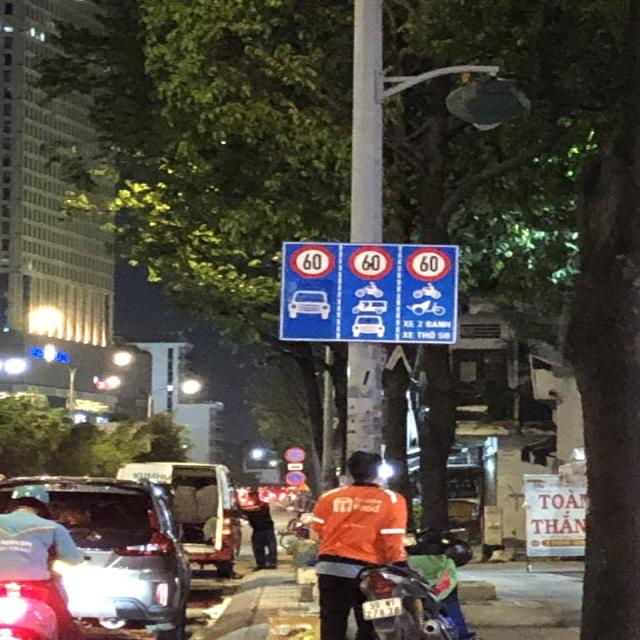Bien bao toc do toi da cho phep: (285, 242, 342, 280), (404, 242, 455, 284), (346, 244, 399, 282)
